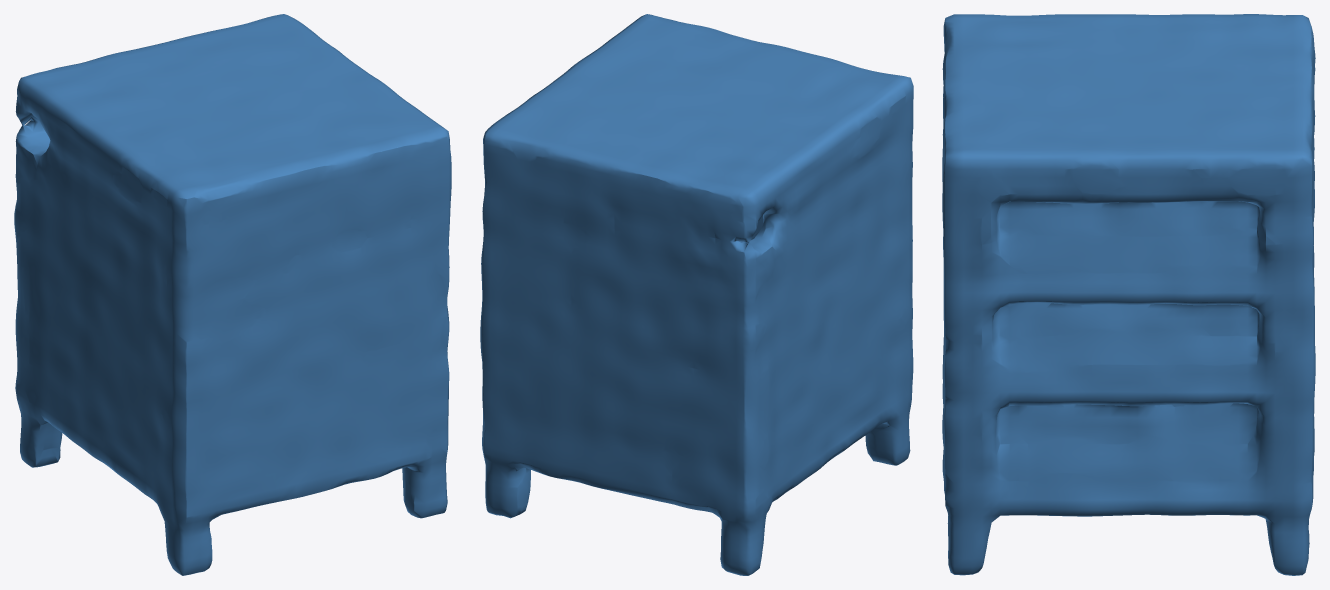
Rendered from nightstand_8_3.obj.
3 renders of one model, left to right at view 1: azimuth 30°, elevation 25°; view 2: azimuth 150°, elevation 25°; view 3: azimuth 270°, elevation 25°, orthographic. The views are drawn at different scales.
Size of the model in its own units: 0.5985 by 0.8008 by 0.637.
